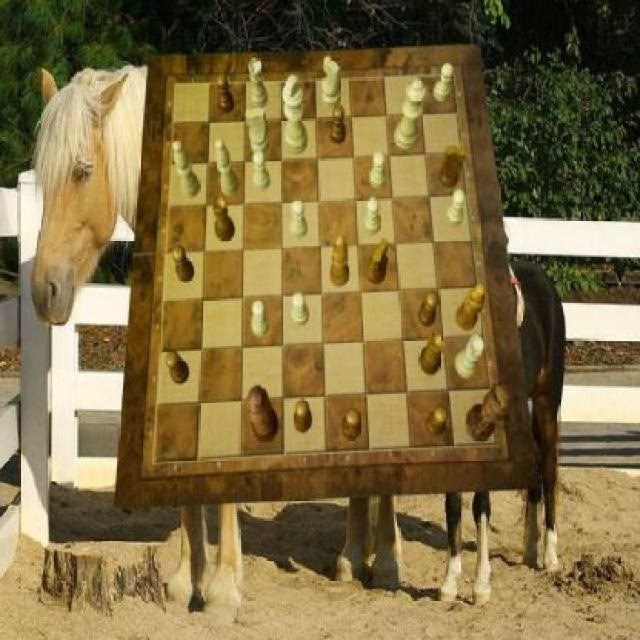bishop: (457, 285, 488, 332), (331, 237, 351, 289)
black-bishop: (466, 383, 513, 443)
black-king: (440, 146, 468, 189), (366, 238, 389, 284)
black-knight: (172, 245, 195, 282), (166, 349, 190, 384), (418, 289, 439, 327), (426, 404, 449, 438), (217, 74, 235, 114), (294, 399, 313, 433), (343, 408, 363, 440), (331, 104, 346, 144)
black-pawn: (248, 386, 280, 445)
black-queen: (420, 332, 446, 375), (212, 196, 236, 242)
black-rook: (172, 140, 200, 198), (216, 139, 240, 196)
white-bishop: (283, 76, 309, 156)
white-king: (244, 109, 268, 157), (322, 57, 339, 109)
white-knight: (434, 63, 454, 102), (446, 189, 466, 227), (364, 197, 382, 235), (291, 200, 308, 240), (254, 151, 271, 191), (369, 151, 386, 189), (251, 299, 268, 336), (291, 292, 308, 326)
white-pawn: (394, 80, 426, 152)
white-queen: (456, 335, 486, 378), (248, 60, 268, 109)
